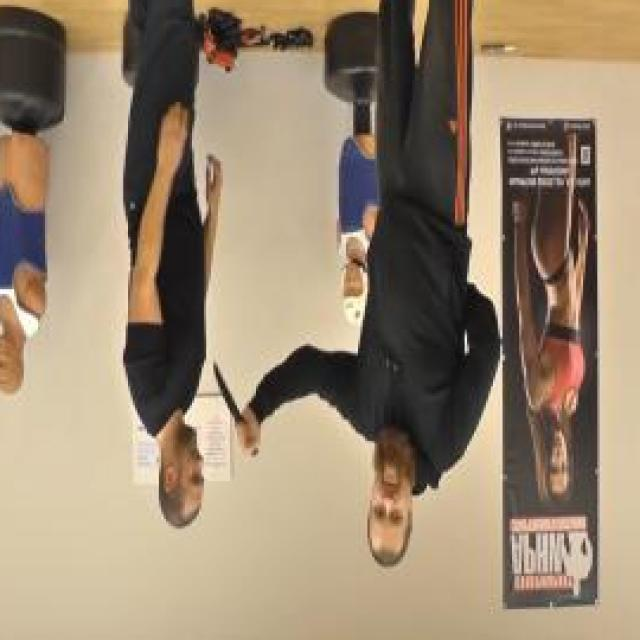knife: (211, 354, 261, 460)
